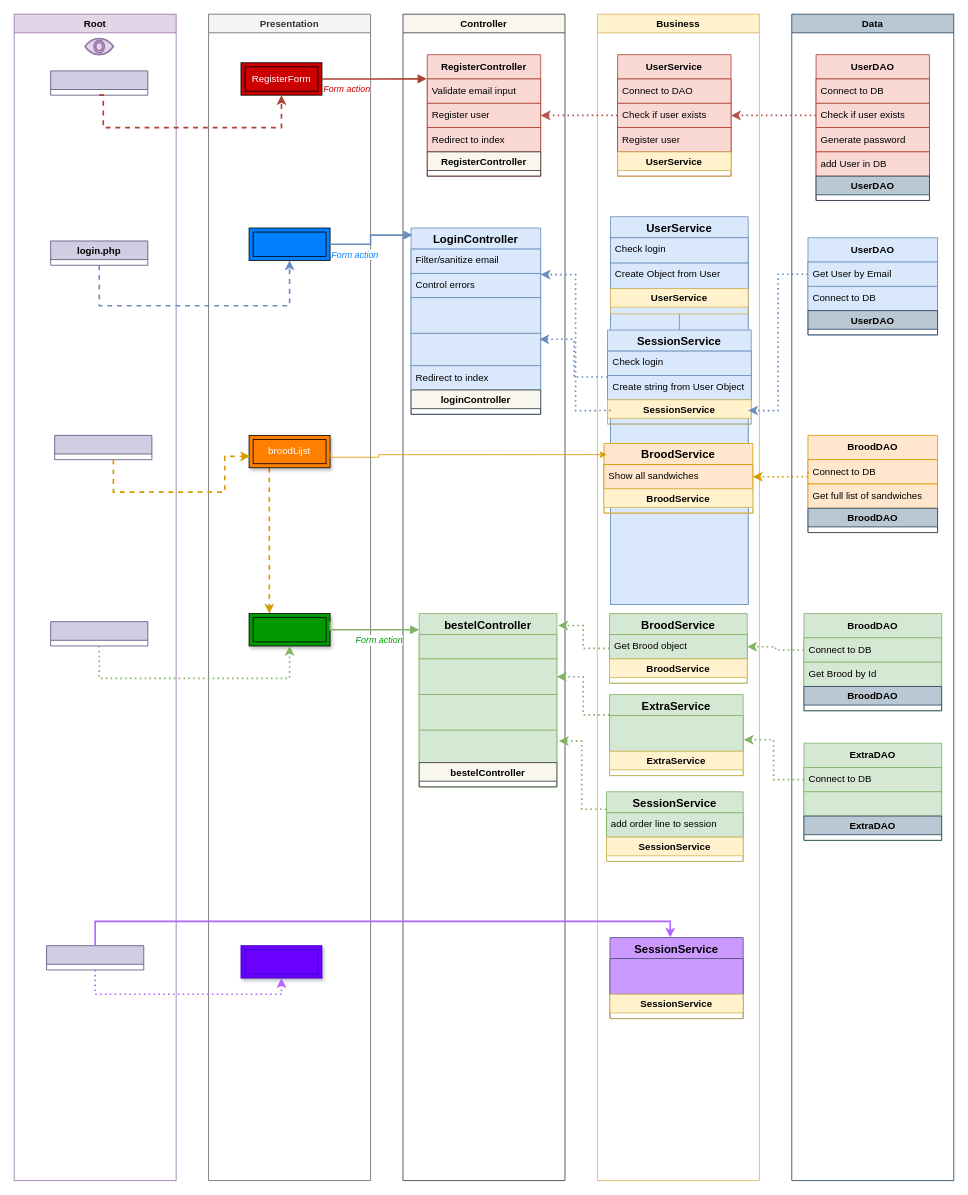
Image size: 968x1195. Some labels were removed from this diagram. Each missing label, with the centre of its shape:
"bestelOverzicht" goes at pixel 282 963.
"Check username and password" goes at pixel 475 315.
"Create array for order line (sand and extras)" goes at pixel 487 712.
"extraLijst" goes at pixel 290 631.
"Get Extra by Id" goes at pixel 872 803.
"Get Extra object" goes at pixel 676 733.
"get user Object back (unserizalize)" goes at pixel 676 976.
"LoginForm" goes at pixel 289 243.
"make object from sanwich and extras" goes at pixel 487 676.
"registration.php" goes at pixel 99 82.
"Start session with order line" goes at pixel 487 746.
"Start session with User object" goes at pixel 475 349.
"toonbroodjes.php" goes at pixel 103 447.
"toonextras.php" goes at pixel 99 633.
"toonMandje.php" goes at pixel 95 957.
"validate order time" goes at pixel 487 646.
